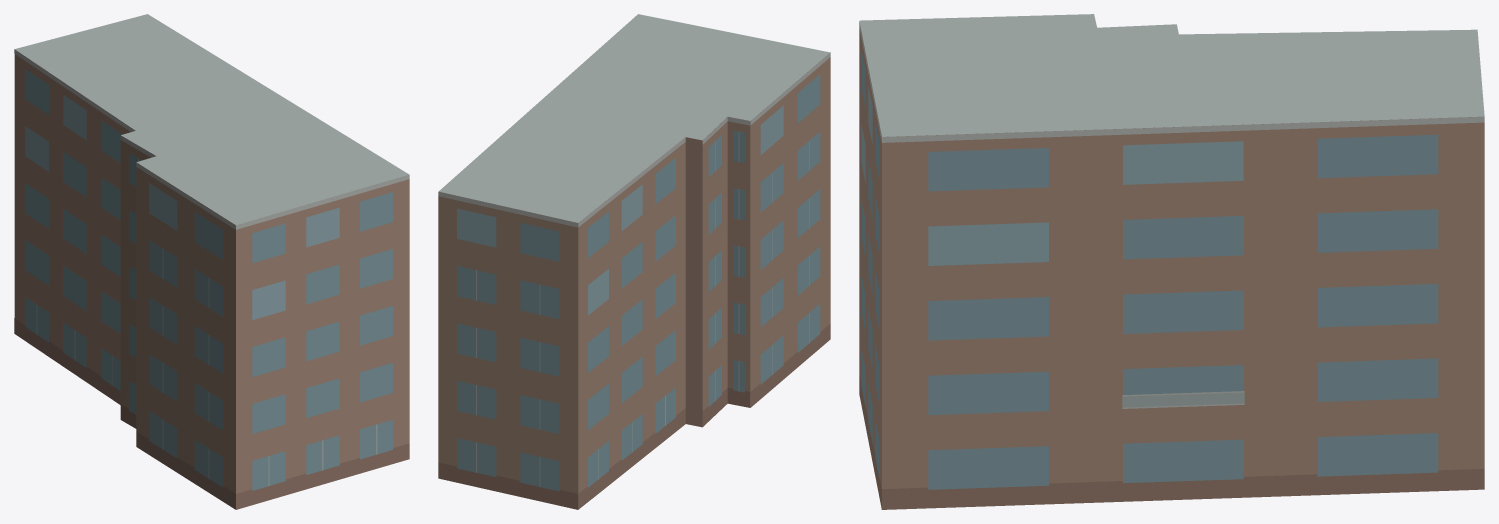
Rendered from survey-upis-32957643.glb.
3 renders of one model, left to right at view 1: azimuth 30°, elevation 25°; view 2: azimuth 150°, elevation 25°; view 3: azimuth 270°, elevation 25°, orthographic. The views are drawn at different scales.
Parts seen in each view (by area): view 1: survey-upis-32957643.tmp; view 2: survey-upis-32957643.tmp; view 3: survey-upis-32957643.tmp.
Part boxes in pixels (x1=…): survey-upis-32957643.tmp: x1=14, y1=14, x2=409, y2=509; survey-upis-32957643.tmp: x1=438, y1=14, x2=830, y2=509; survey-upis-32957643.tmp: x1=859, y1=14, x2=1484, y2=509.
Size of the model in its own units: 10.79 by 15.25 by 23.19.
